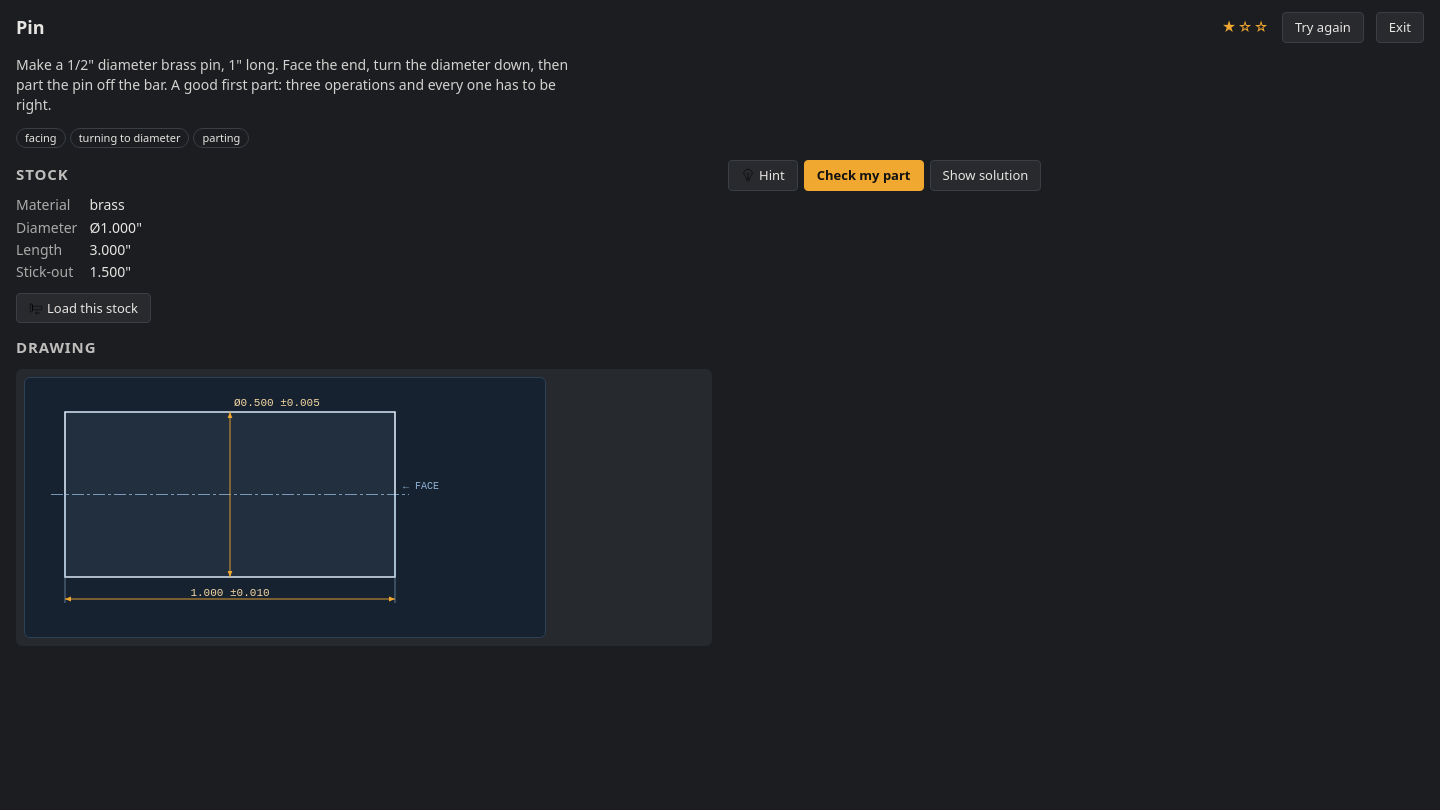
ChallengePanel › checking empty work fails and lists mistakes
What coordinates should you click on to do the following:
click the button with test id "challenge-check"
I would click on:
 (864, 175)
Its box is [804,160,924,190].
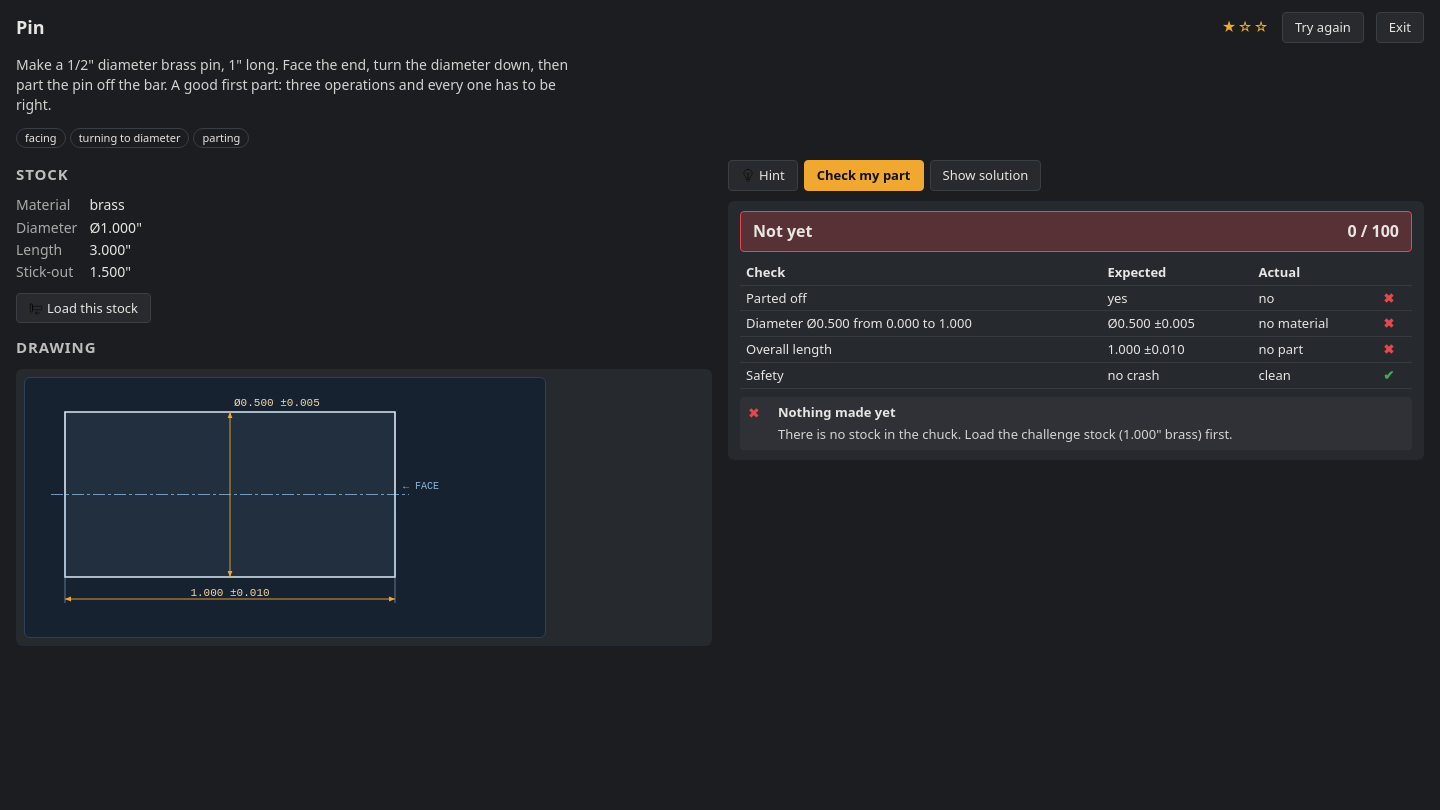
expect the element with test id "grade-banner" shows "Not yet": met, box [753,220,812,242]
expect the text "Nothing made yet" is shown: met, box [778,403,896,421]
